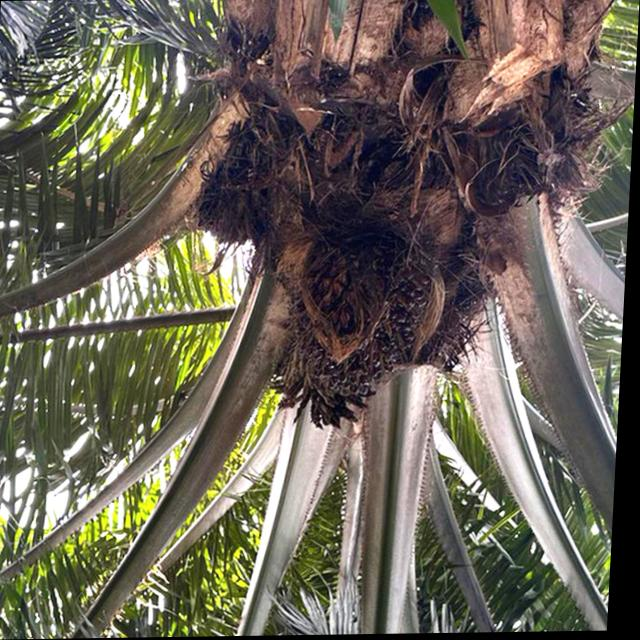almost: (277, 215, 447, 407)
